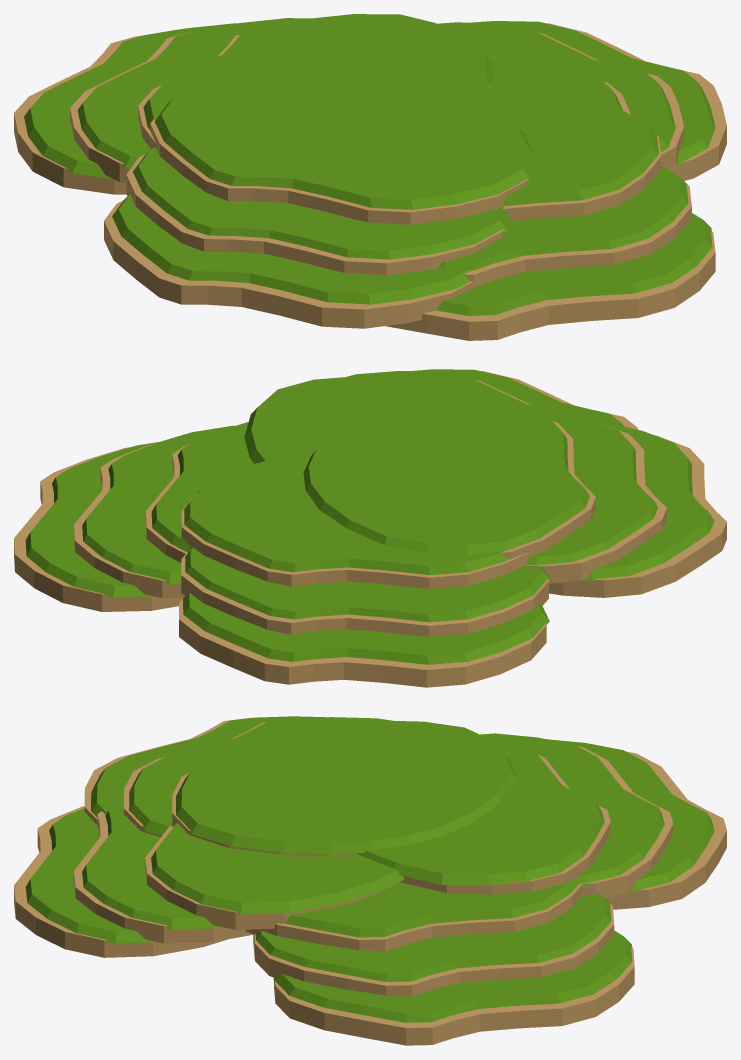
The model's file is blockoutMOUNTAINS.fbx.
3 renders of one model, top to bottom at view 1: azimuth 30°, elevation 25°; view 2: azimuth 150°, elevation 25°; view 3: azimuth 270°, elevation 25°, orthographic. The views are drawn at different scales.
Parts seen in each view (by area): view 1: Circle.016; view 2: Circle.016; view 3: Circle.016.
Boxes of the visible parts, x1,y1,x2,y2 form: Circle.016: (14, 14, 726, 340); Circle.016: (14, 369, 726, 687); Circle.016: (14, 716, 726, 1045).
Bounding box in the file's own units: 5812 × 821 × 6125.
